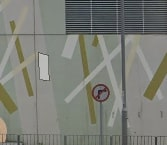No Turn Right: (91, 83, 110, 102)
